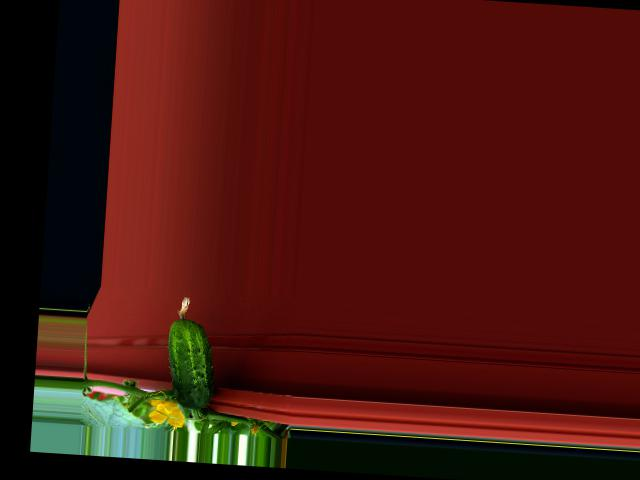cucumber: (163, 295, 218, 410)
